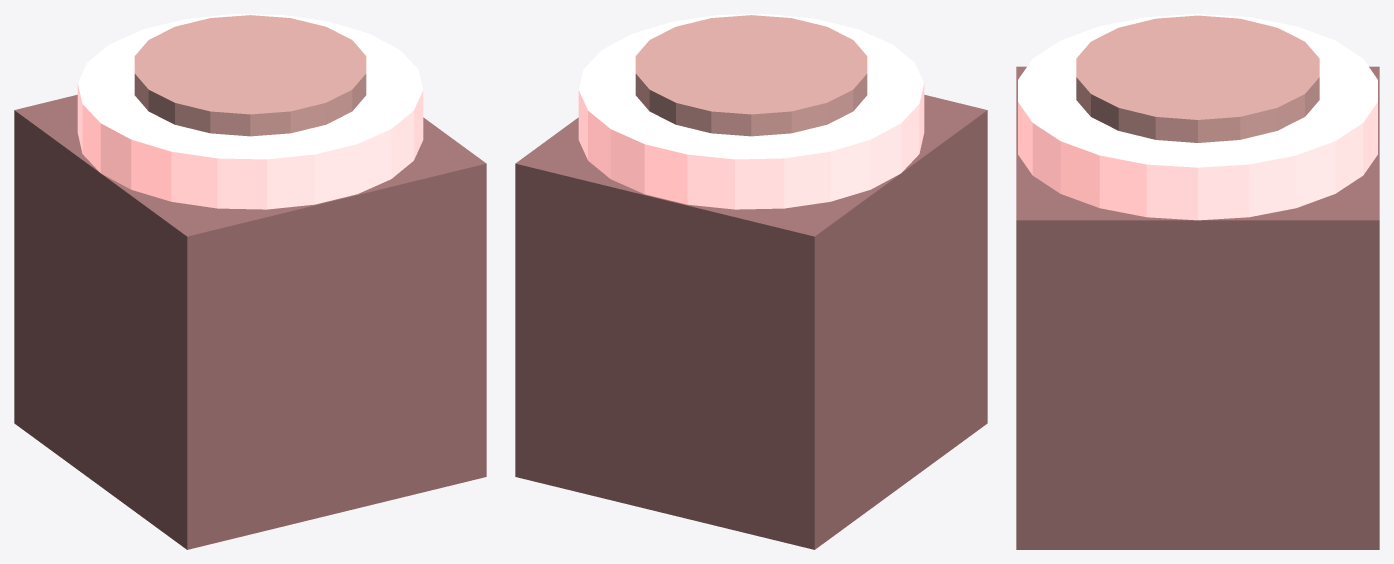
Rendered from Bounce_Full.glb.
The picture shows the model from 3 angles, left to right: view 1: azimuth 30°, elevation 25°; view 2: azimuth 150°, elevation 25°; view 3: azimuth 270°, elevation 25°; orthographic projection. The views are drawn at different scales.
Visible parts, largest first — view 1: Bounce_Full_body, bounce_base, bounce_fill_ring; view 2: Bounce_Full_body, bounce_base, bounce_fill_ring; view 3: Bounce_Full_body, bounce_base, bounce_fill_ring.
Boxes of the visible parts, x1,y1,x2,y2 form: Bounce_Full_body: (14, 94, 486, 549); bounce_base: (77, 14, 423, 209); bounce_fill_ring: (134, 15, 366, 136); Bounce_Full_body: (515, 94, 987, 549); bounce_base: (578, 14, 924, 209); bounce_fill_ring: (635, 15, 867, 136); Bounce_Full_body: (1016, 66, 1379, 549); bounce_base: (1018, 14, 1377, 220); bounce_fill_ring: (1076, 15, 1319, 142).
Size of the model in its own units: 1 by 1.23 by 1.
